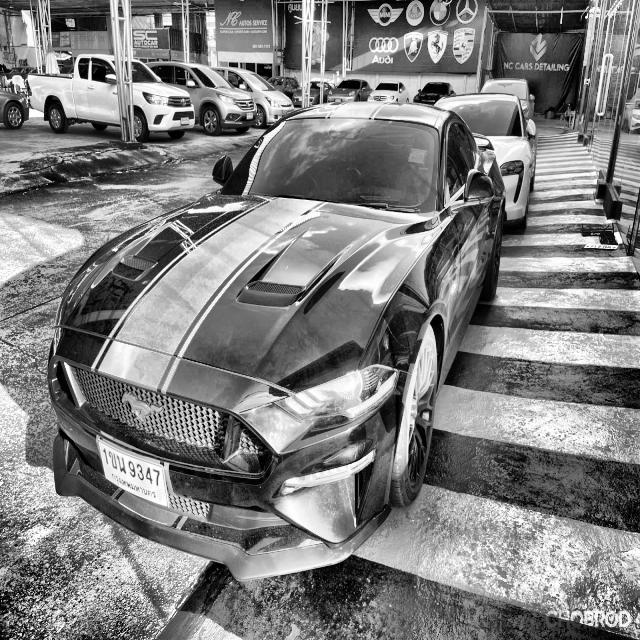license-plate: (96, 432, 170, 512), (180, 115, 190, 127), (246, 110, 254, 121)
